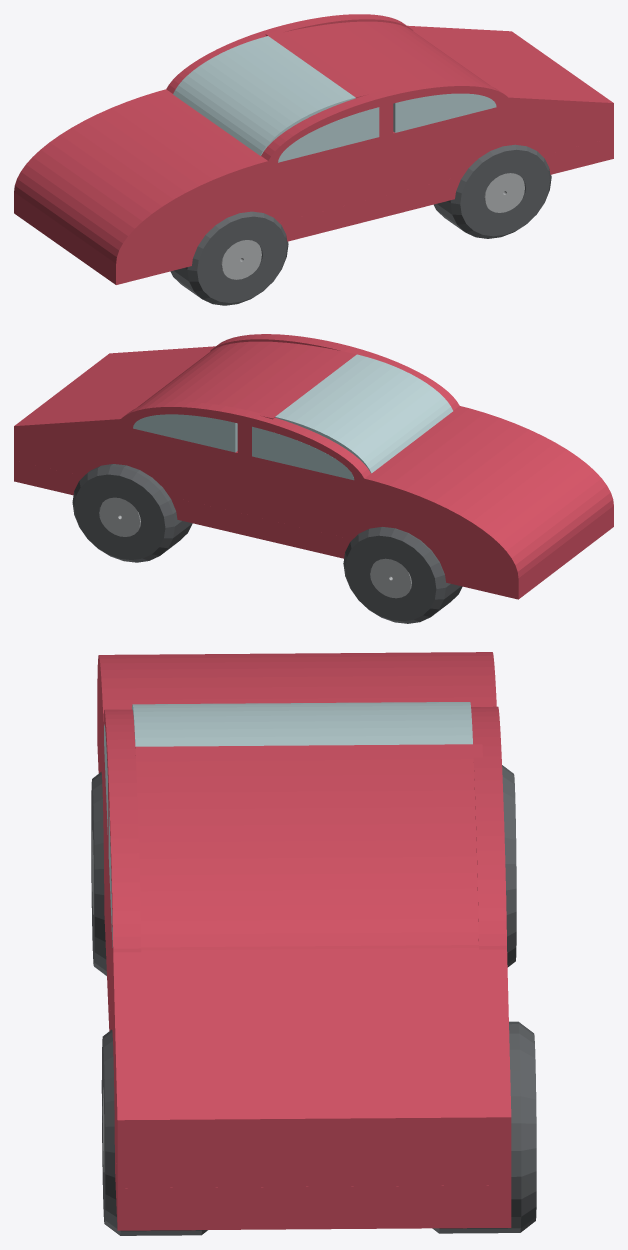
File: car.glb
The picture shows the model from 3 angles, top to bottom: view 1: azimuth 30°, elevation 25°; view 2: azimuth 150°, elevation 25°; view 3: azimuth 270°, elevation 25°; orthographic projection. The views are drawn at different scales.
Parts seen in each view (by area): view 1: Mesh_Mesh_head_geo.001_lambert2SG.001; view 2: Mesh_Mesh_head_geo.001_lambert2SG.001; view 3: Mesh_Mesh_head_geo.001_lambert2SG.001.
Boxes of the visible parts, <box> form: Mesh_Mesh_head_geo.001_lambert2SG.001: <box>14,14,613,305</box>; Mesh_Mesh_head_geo.001_lambert2SG.001: <box>14,334,613,623</box>; Mesh_Mesh_head_geo.001_lambert2SG.001: <box>91,652,536,1235</box>.
Size of the model in its own units: 124 by 40 by 47.51.
